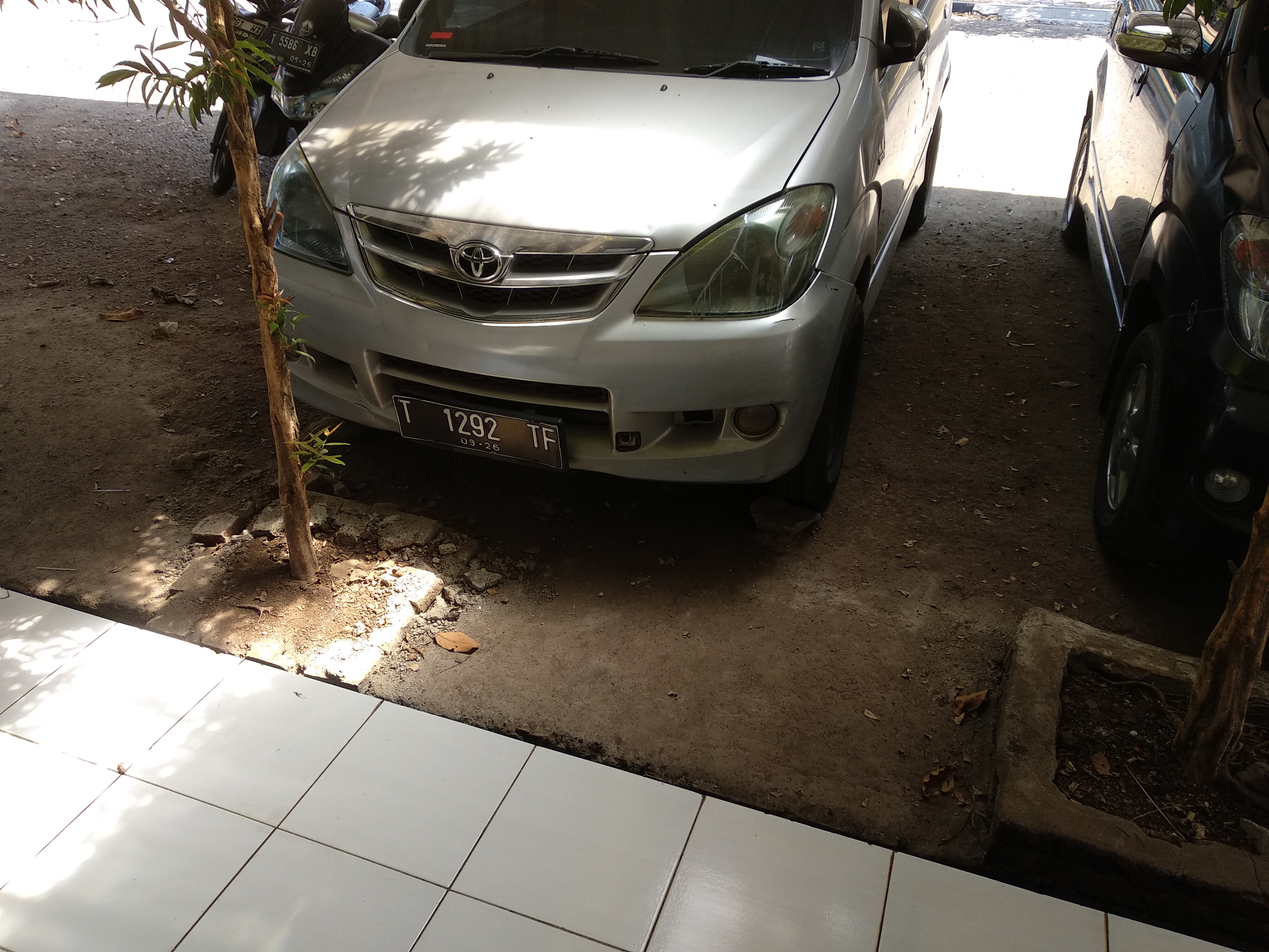plat nomor: (391, 394, 563, 470)
